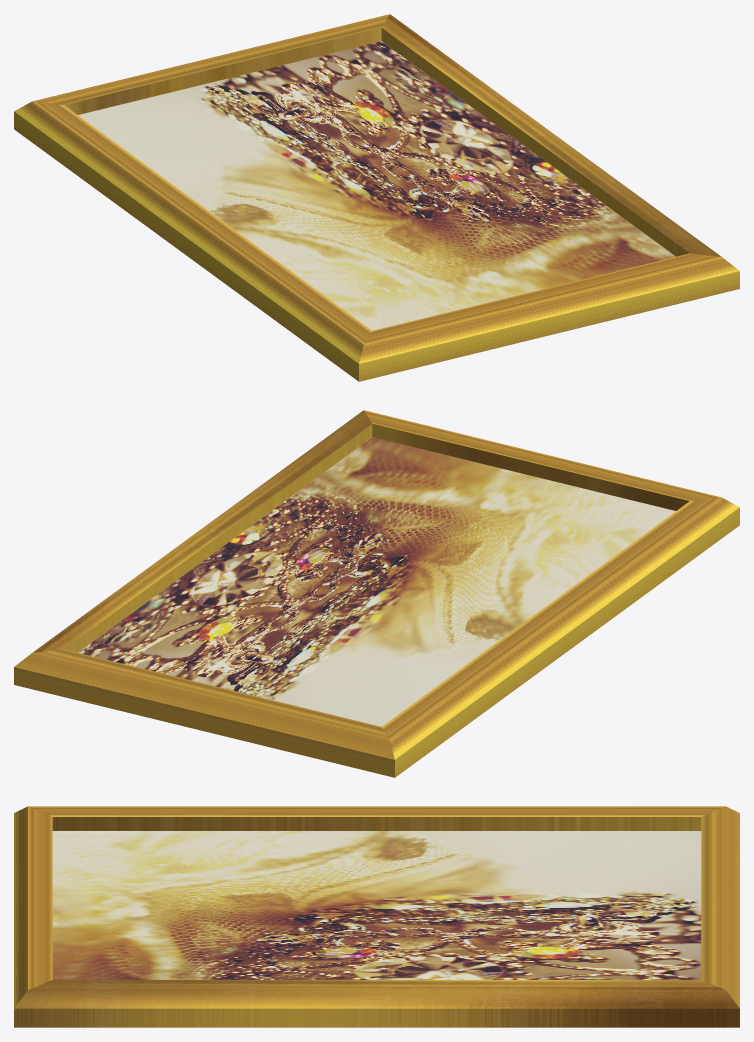
The model's file is picture frame.fbx.
3 views of the same model, one above another, from view 1: azimuth 30°, elevation 25°; view 2: azimuth 150°, elevation 25°; view 3: azimuth 270°, elevation 25° (orthographic). The views are drawn at different scales.
Parts seen in each view (by area): view 1: pCube1; view 2: pCube1; view 3: pCube1.
Part boxes in pixels (box(x1,y1,x2,y2)): pCube1: box(14, 14, 739, 381); pCube1: box(14, 410, 739, 777); pCube1: box(14, 806, 739, 1027).
Size of the model in its own units: 4.8 by 0.3594 by 7.53.
Materials: 2 (2 with a texture image).
